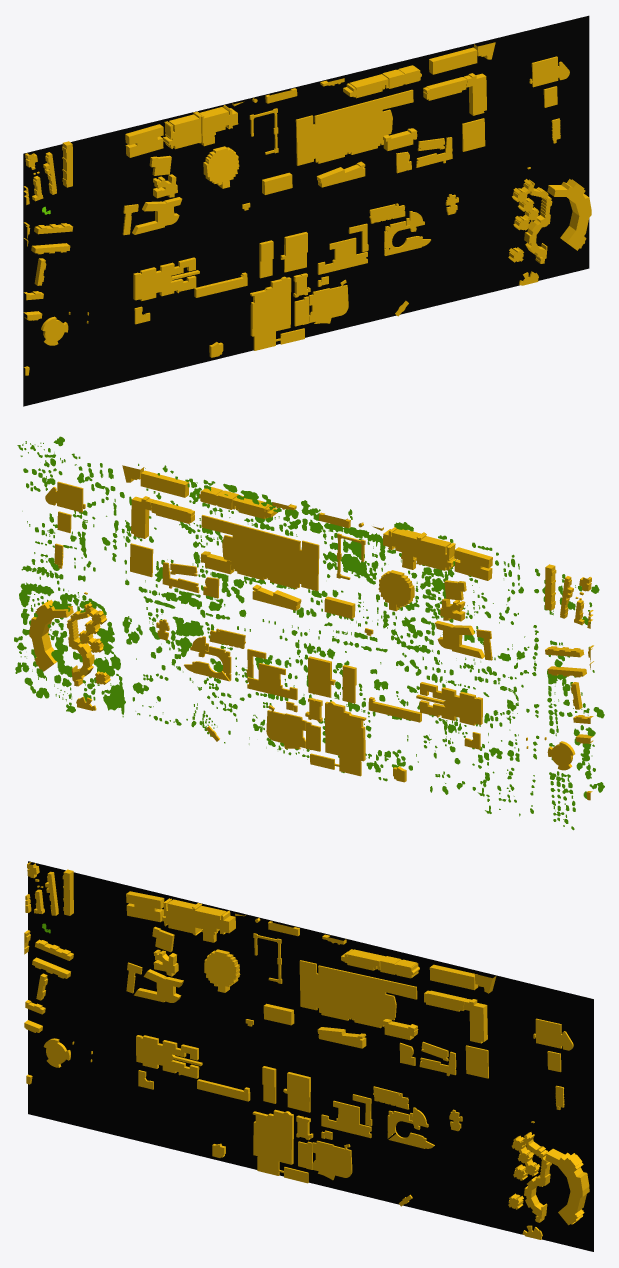
The model's file is new_trees_02.glb.
The picture shows the model from 3 angles, top to bottom: view 1: azimuth 30°, elevation 25°; view 2: azimuth 150°, elevation 25°; view 3: azimuth 330°, elevation 25°; orthographic projection.
Visible parts, largest first — view 1: Layer 04, existing_building - Copy; view 2: existing_building - Copy, treesurface, new trees; view 3: Layer 04, existing_building - Copy.
Boxes of the visible parts, <box> form: Layer 04: <box>23,15,589,406</box>; existing_building - Copy: <box>23,42,591,375</box>; existing_building - Copy: <box>29,465,593,800</box>; treesurface: <box>14,436,604,830</box>; new trees: <box>25,441,585,822</box>; Layer 04: <box>28,861,593,1251</box>; existing_building - Copy: <box>24,862,589,1239</box>.
Bounding box in the file's own units: 1035 × 458 × 20.85.
